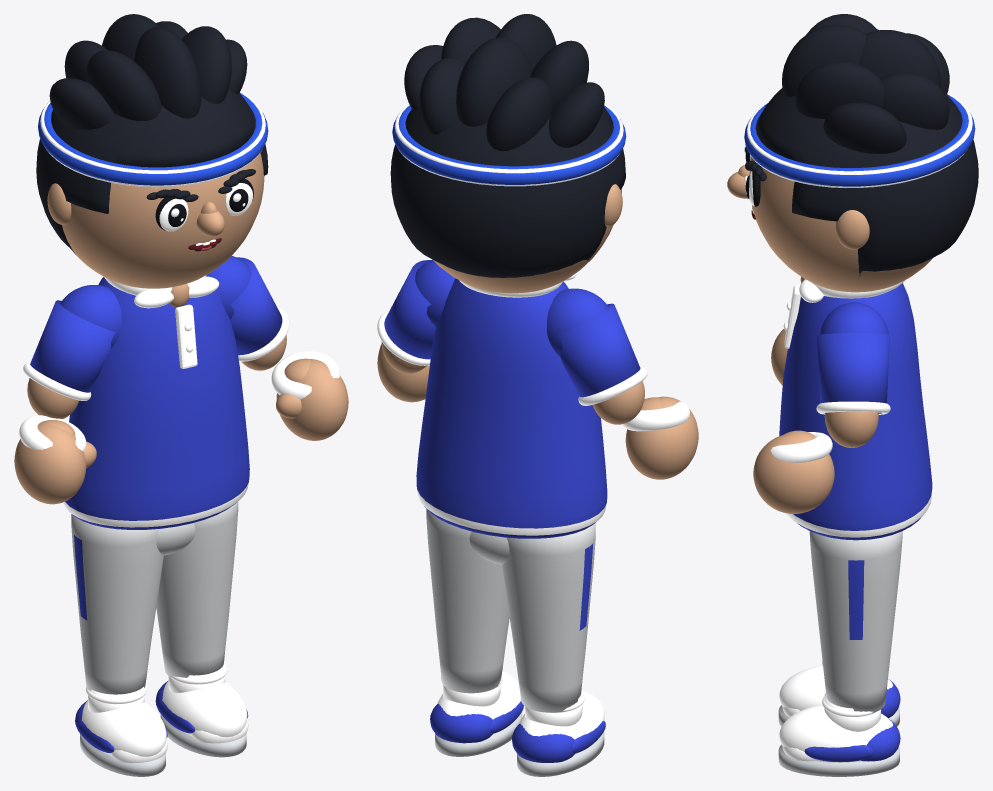
The model's file is mii_opponent.glb.
The picture shows the model from 3 angles, left to right: view 1: azimuth 30°, elevation 25°; view 2: azimuth 150°, elevation 25°; view 3: azimuth 270°, elevation 25°; orthographic projection.
Parts seen in each view (by area): view 1: Torso.001, Head.001, Foot_L.001, Foot_R.001, Hand_L.001, Hand_R.001; view 2: Torso.001, Head.001, Foot_L.001, Foot_R.001, Hand_L.001, Hand_R.001; view 3: Head.001, Torso.001, Foot_R.001, Hand_R.001, Foot_L.001, Hand_L.001.
Boxes of the visible parts, x1,y1,x2,y2 form: Torso.001: (23,256,289,694); Head.001: (36,14,268,288); Foot_L.001: (75,685,167,776); Foot_R.001: (155,661,248,757); Hand_L.001: (14,415,96,504); Hand_R.001: (271,351,348,440); Torso.001: (377,260,647,712); Head.001: (390,14,626,293); Foot_L.001: (512,689,606,776); Foot_R.001: (430,671,524,756); Hand_L.001: (622,396,698,479); Hand_R.001: (377,344,429,402); Head.001: (727,14,978,292); Torso.001: (779,277,932,713); Foot_R.001: (778,693,900,776); Hand_R.001: (753,430,834,513); Foot_L.001: (778,661,900,726); Hand_L.001: (771,329,787,385).
Size of the model in its own units: 0.8149 by 1.78 by 0.5661.
